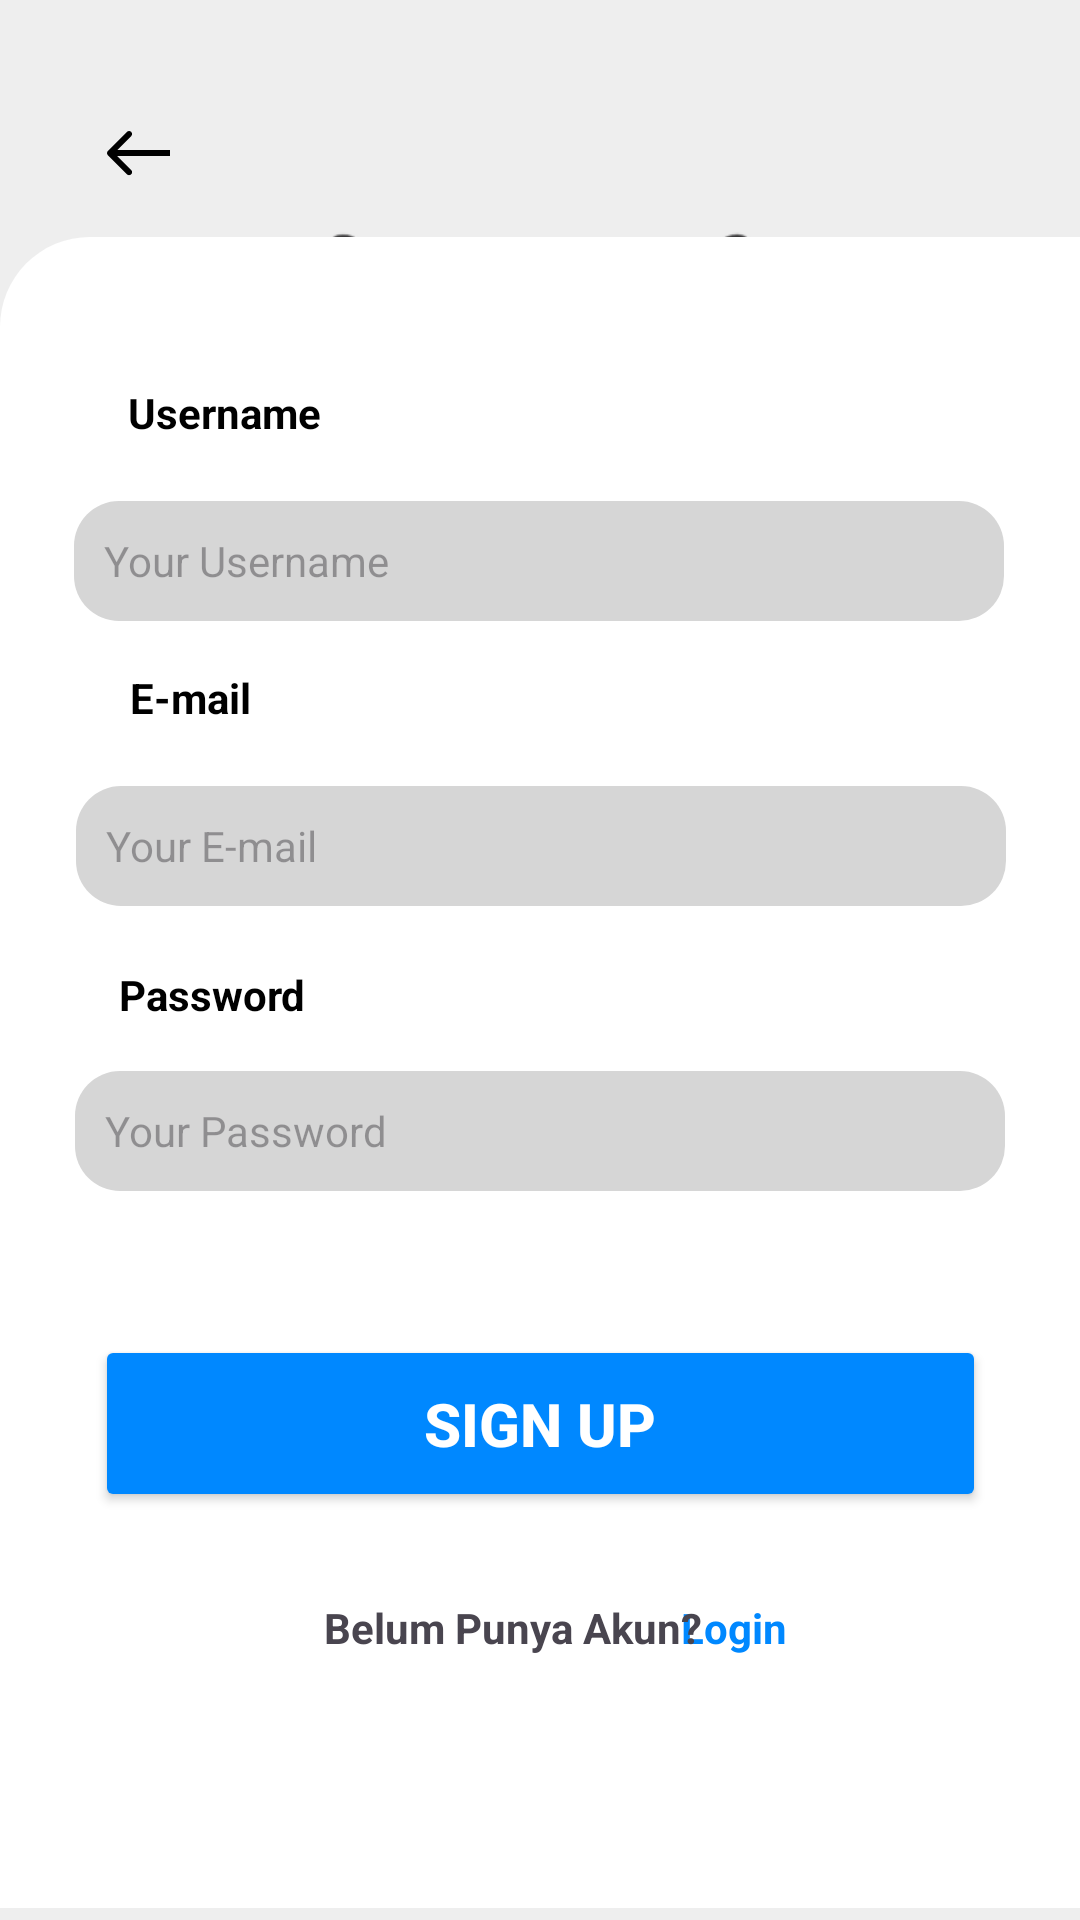

Named icons in this screenshot (1080x1920) and their centers, (x=x, y=y):
arrow res: (x=138, y=153)
